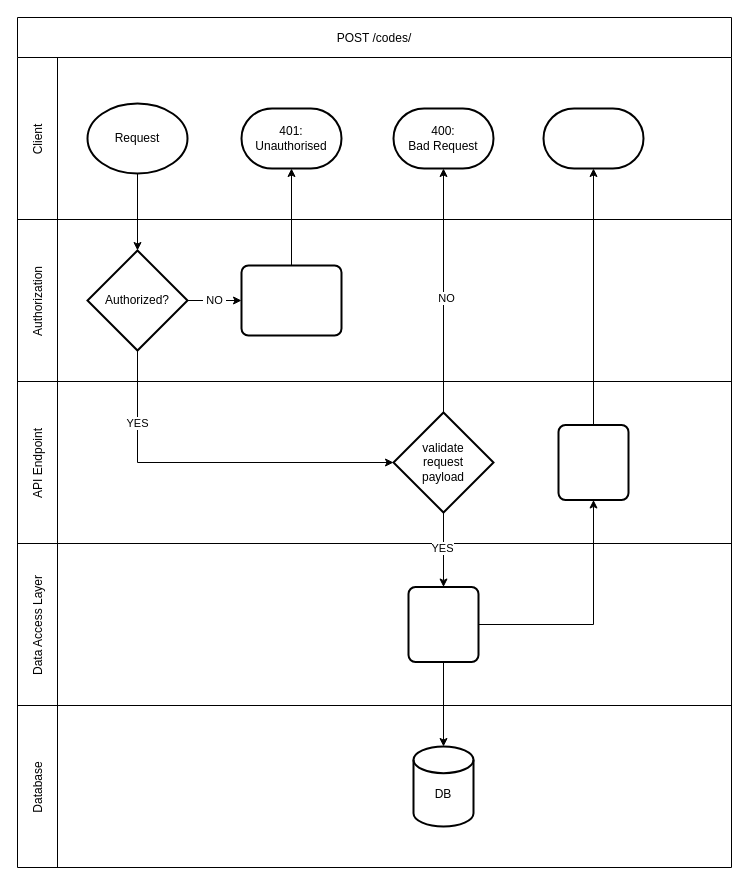
Image size: 749x885. Some labels were removed from this diagram. The centre of each missing label's shape, as x and y in pixels:
200: Response: the point at 593,138
Invalid Access Token: the point at 291,300
Prepare success response: the point at 593,462
Query Code Creation: the point at 443,624
